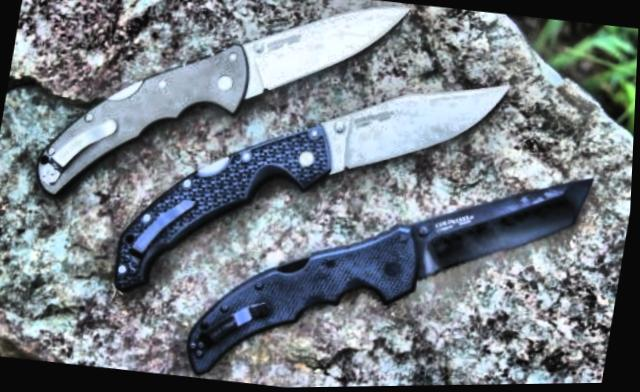knife: (399, 150, 601, 302), (307, 59, 513, 195), (222, 0, 413, 110)
